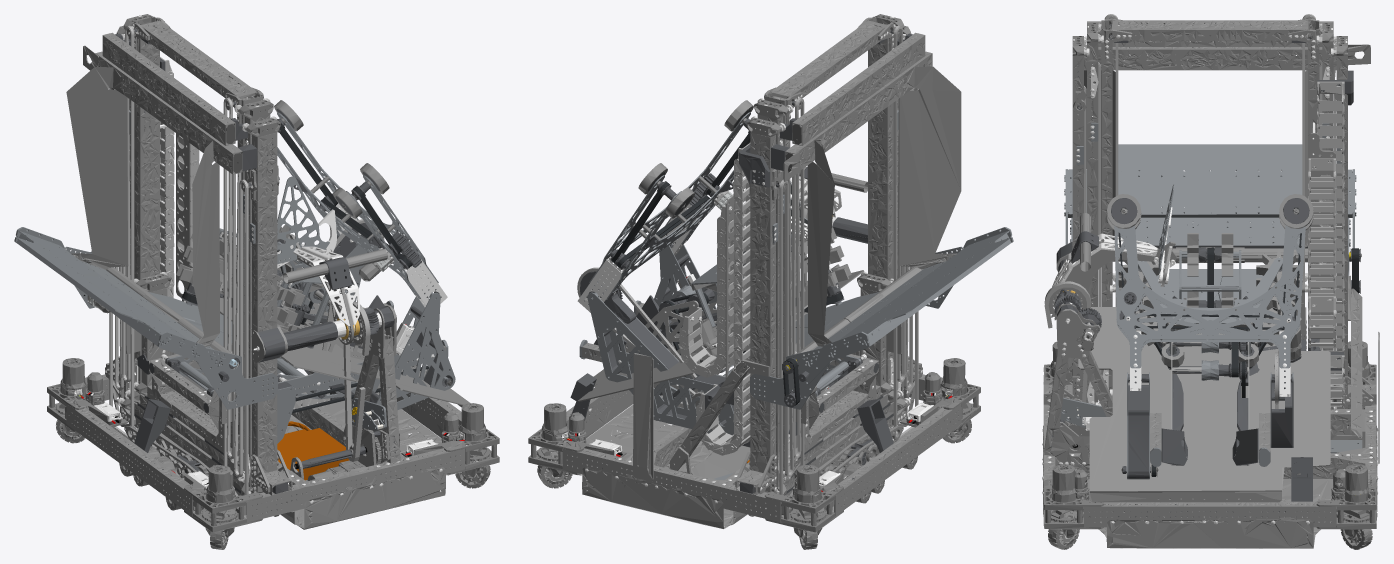
Rendered from relay-3005.glb.
3 views of the same model, side by side, from view 1: azimuth 30°, elevation 25°; view 2: azimuth 150°, elevation 25°; view 3: azimuth 270°, elevation 25° (orthographic).
Parts seen in each view (by area): view 1: frame, elevator-stage-2, carriage, algae, elevator-stage, climber, effector; view 2: frame, elevator-stage-2, carriage, algae, elevator-stage, effector, climber; view 3: frame, elevator-stage-2, algae, carriage, elevator-stage, effector, climber.
Part boxes in pixels (<box>): frame: <box>14,25,499,549</box>; elevator-stage-2: <box>124,16,263,481</box>; carriage: <box>126,219,455,463</box>; algae: <box>274,100,447,307</box>; elevator-stage: <box>102,14,273,495</box>; climber: <box>277,176,387,346</box>; effector: <box>161,287,426,399</box>; frame: <box>528,25,1013,549</box>; elevator-stage-2: <box>679,16,903,481</box>; carriage: <box>577,242,901,463</box>; algae: <box>577,100,753,323</box>; elevator-stage: <box>754,14,925,495</box>; effector: <box>594,285,866,407</box>; climber: <box>732,167,867,240</box>; frame: <box>1042,14,1379,549</box>; elevator-stage-2: <box>1095,17,1344,405</box>; algae: <box>1107,194,1313,404</box>; carriage: <box>1110,273,1307,479</box>; elevator-stage: <box>1087,21,1336,409</box>; effector: <box>1161,333,1258,465</box>; climber: <box>1045,184,1176,320</box>.
Size of the model in its own units: 0.9015 by 1.04 by 0.7461.
